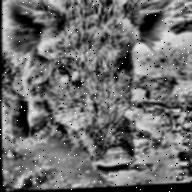boar: (0, 0, 188, 181)
